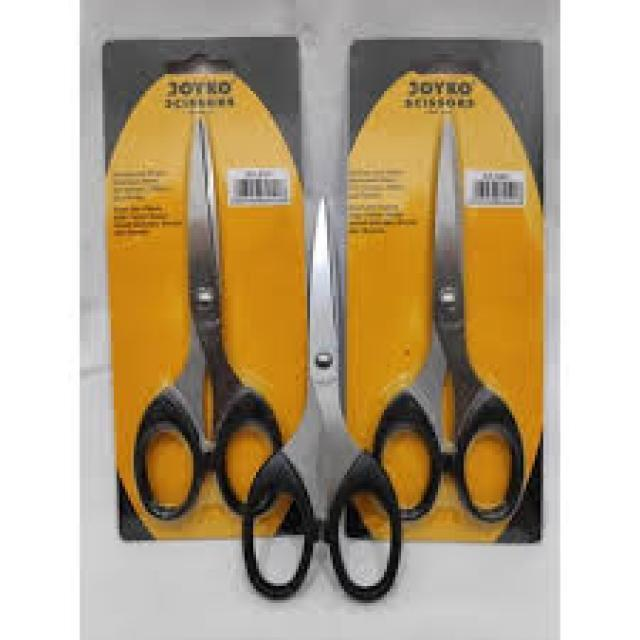Scissors: (366, 85, 542, 542), (118, 77, 286, 550), (236, 190, 411, 612)
